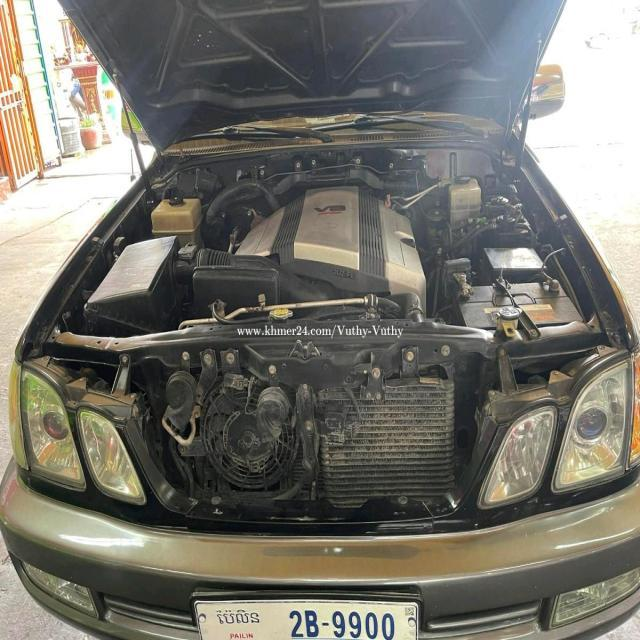Pailin: (215, 608, 260, 627)
